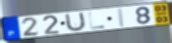2: (43, 15, 61, 35), (22, 17, 40, 37)
8: (135, 6, 153, 25)
I: (117, 7, 127, 28)
L: (88, 12, 106, 30)
U: (65, 11, 87, 33)
